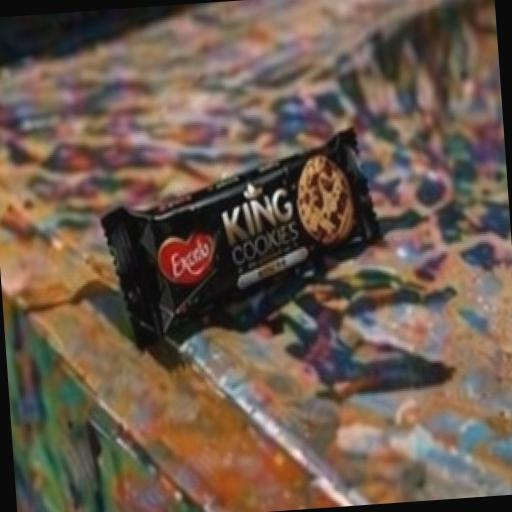king_cooking: (53, 74, 463, 375)
